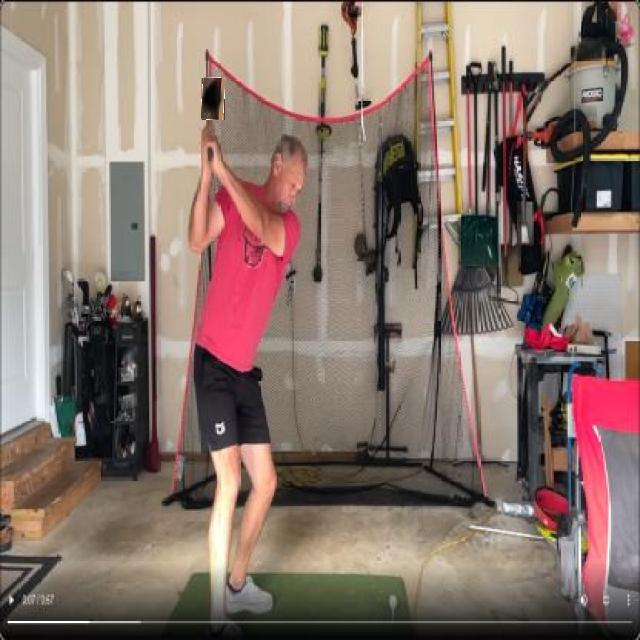club head: (201, 78, 225, 120)
